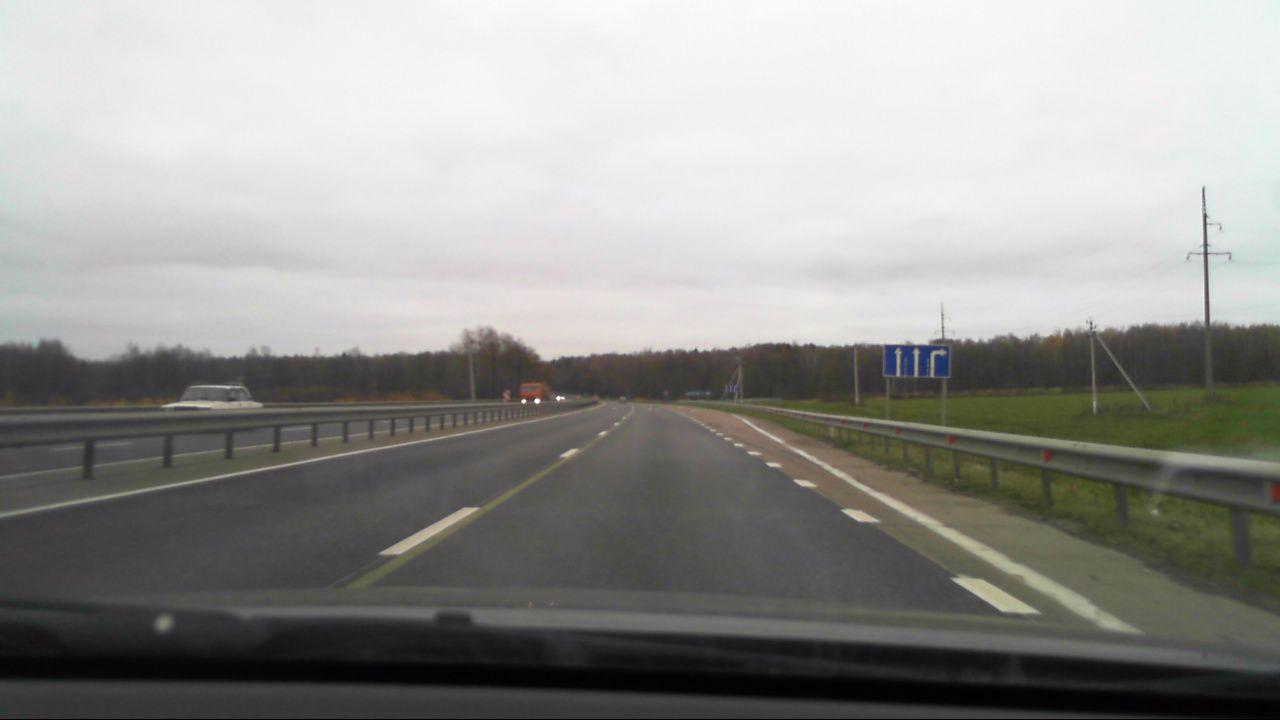5_15_1: (882, 344, 951, 379)
